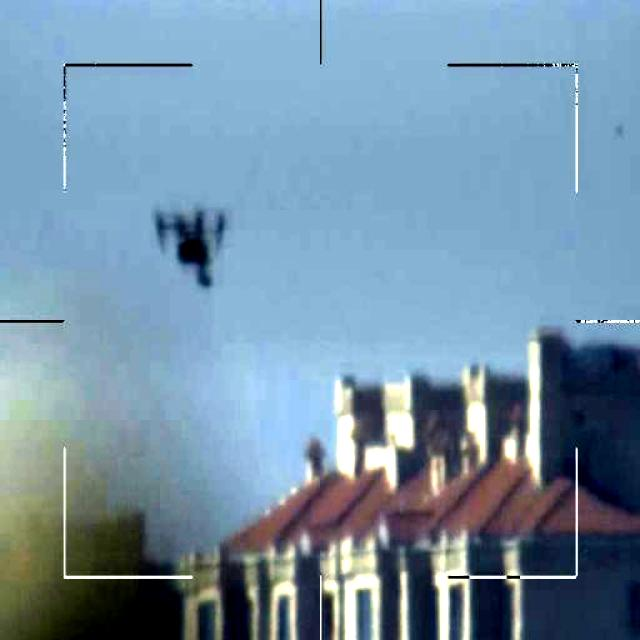bird: (150, 202, 238, 290)
